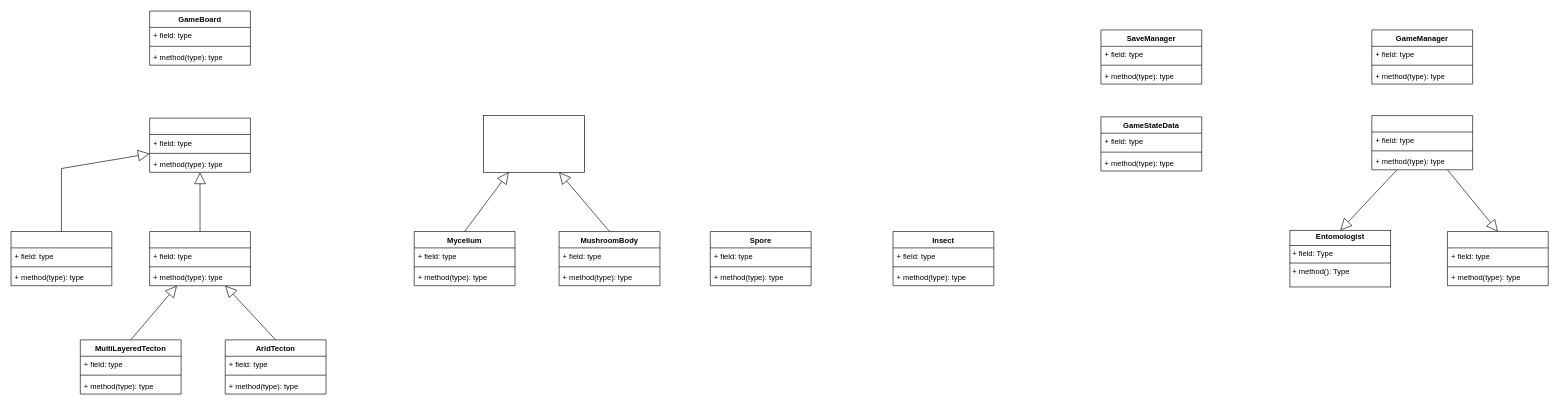
This 1559x407 diagram has some shape labels left out. The shapes that lost their labels are listed below. From the top down, each one's box as (x1, y1, x2, y2) in pixels, then its label:
(149, 117, 250, 172): Tecton
(483, 115, 584, 172): MushroomPart + field: Type + method(): Type
(1371, 115, 1473, 170): Player
(10, 231, 112, 286): CoarseTecton
(149, 231, 250, 286): FertileTecton
(1447, 231, 1548, 286): Mycologist
